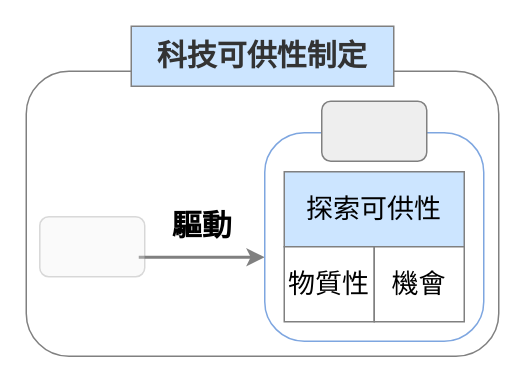
The diagram is 525 pixels wide and 383 high, and some of its shapes have lost their labels. The shapes that lost their labels are listed below. From the top down, each one's centre as x and y in pixels, then its label:
the point at 373,130: 行動
the point at 91,246: 認知
